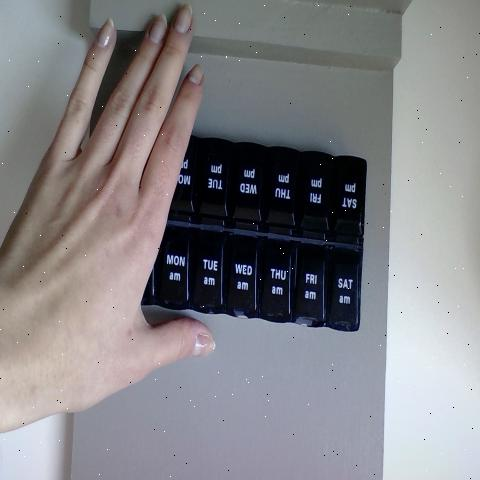FRI-am: (294, 244, 323, 330)
FRI-pm: (299, 156, 329, 240)
Hands: (0, 6, 204, 417)
MON-am: (158, 227, 188, 307)
SAT-am: (324, 250, 361, 329)
SAT-pm: (330, 158, 362, 246)
THU-am: (260, 238, 293, 317)
THU-pm: (264, 146, 298, 233)
TUE-am: (190, 230, 223, 313)
TUE-pm: (197, 142, 229, 225)
WED-am: (222, 236, 258, 314)
WED-pm: (232, 144, 263, 228)
